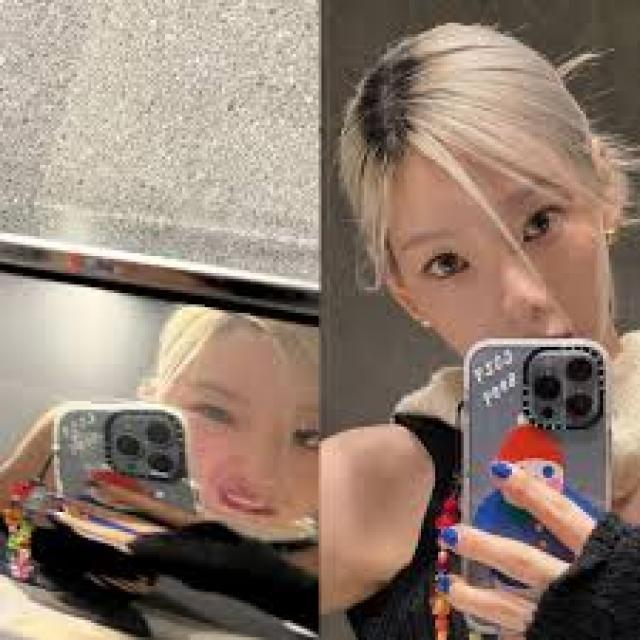Phone: (458, 338, 616, 592), (56, 403, 202, 536)
